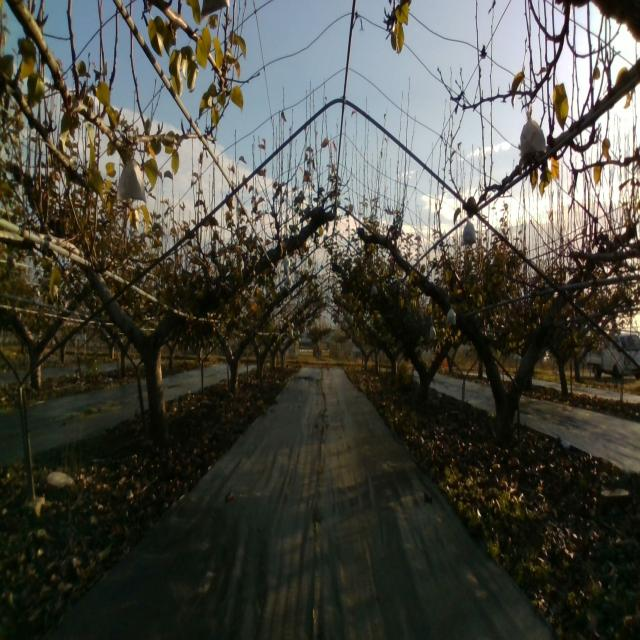pearbags: (115, 159, 146, 202), (518, 111, 546, 157), (460, 216, 477, 243), (445, 304, 457, 327)
